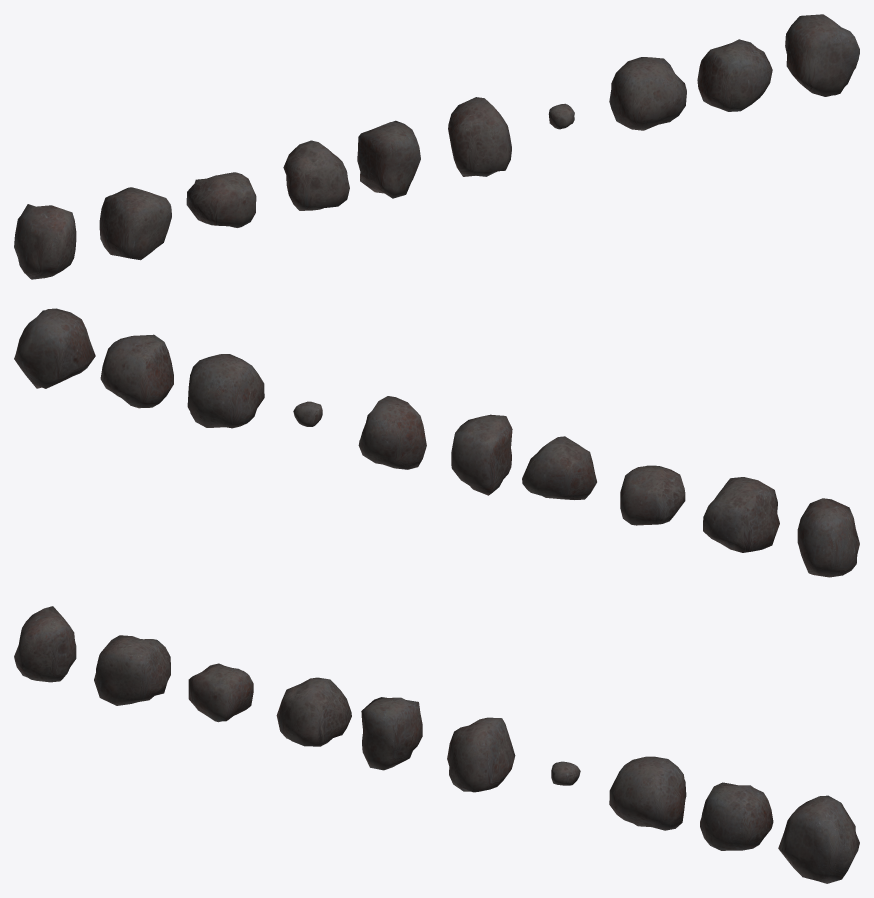
The model's file is Meteorites.fbx.
The picture shows the model from 3 angles, top to bottom: view 1: azimuth 30°, elevation 25°; view 2: azimuth 150°, elevation 25°; view 3: azimuth 330°, elevation 25°; orthographic projection.
Parts seen in each view (by area): view 1: Lp10.001, Lp08.001, Lp02.001, Lp09.001, Lp06.001, Lp01.001, Lp05.001, Lp04.001, Lp03.001, Lp07.001; view 2: Lp08.001, Lp10.001, Lp02.001, Lp09.001, Lp01.001, Lp05.001, Lp06.001, Lp04.001, Lp03.001, Lp07.001; view 3: Lp10.001, Lp08.001, Lp02.001, Lp09.001, Lp06.001, Lp04.001, Lp05.001, Lp01.001, Lp03.001, Lp07.001.
Part boxes in pixels (bbox=[...]): Lp10.001: bbox=[785, 14, 859, 96]; Lp08.001: bbox=[609, 57, 686, 130]; Lp02.001: bbox=[99, 187, 171, 260]; Lp09.001: bbox=[697, 39, 772, 111]; Lp06.001: bbox=[448, 97, 511, 176]; Lp01.001: bbox=[14, 204, 76, 279]; Lp05.001: bbox=[357, 120, 420, 198]; Lp04.001: bbox=[283, 140, 349, 210]; Lp03.001: bbox=[186, 172, 256, 227]; Lp07.001: bbox=[548, 103, 574, 129]; Lp08.001: bbox=[187, 354, 264, 428]; Lp10.001: bbox=[14, 308, 95, 388]; Lp02.001: bbox=[703, 477, 779, 552]; Lp09.001: bbox=[100, 334, 173, 408]; Lp01.001: bbox=[797, 498, 859, 577]; Lp05.001: bbox=[451, 414, 512, 495]; Lp06.001: bbox=[358, 396, 426, 469]; Lp04.001: bbox=[522, 436, 596, 499]; Lp03.001: bbox=[620, 465, 685, 525]; Lp07.001: bbox=[293, 401, 322, 426]; Lp10.001: bbox=[778, 795, 859, 883]; Lp08.001: bbox=[609, 756, 686, 830]; Lp02.001: bbox=[94, 635, 170, 705]; Lp09.001: bbox=[700, 782, 773, 850]; Lp06.001: bbox=[447, 717, 515, 792]; Lp04.001: bbox=[276, 677, 351, 746]; Lp05.001: bbox=[361, 697, 422, 770]; Lp01.001: bbox=[14, 606, 76, 682]; Lp03.001: bbox=[188, 663, 253, 722]; Lp07.001: bbox=[551, 761, 580, 785].
Bounding box in the file's own units: 9703 × 839 × 770.
